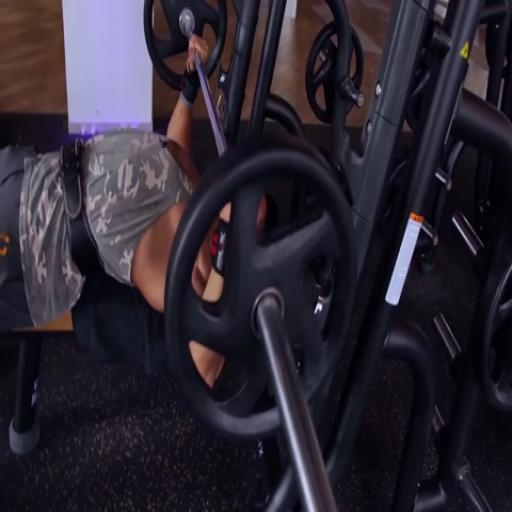exercise: (0, 33, 270, 395)
